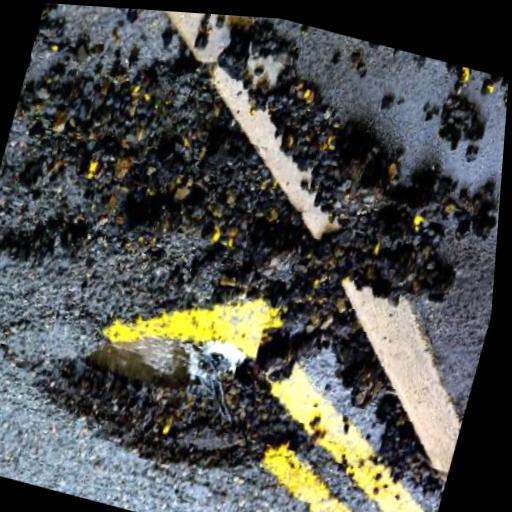pothole: (15, 308, 326, 507)
